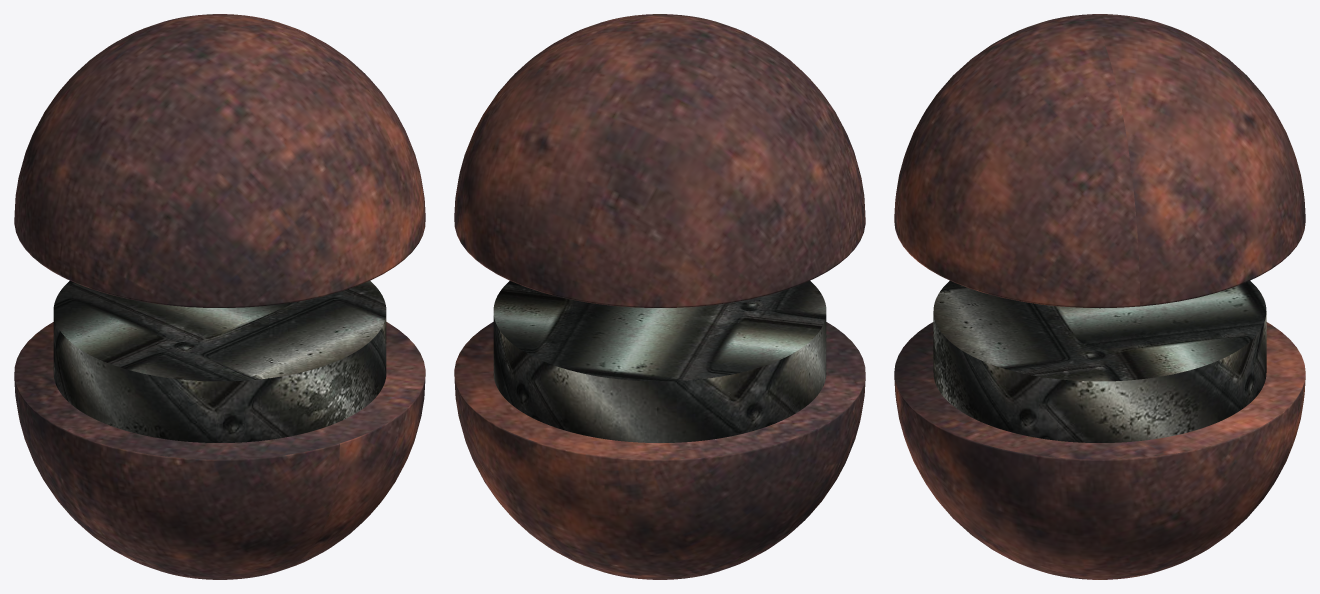
The model's file is droid_anim_000037.obj.
The picture shows the model from 3 angles, left to right: view 1: azimuth 30°, elevation 25°; view 2: azimuth 150°, elevation 25°; view 3: azimuth 270°, elevation 25°; orthographic projection.
Visible parts, largest first — view 1: Sphere.004, Sphere.005, Cylinder.002; view 2: Sphere.004, Sphere.005, Cylinder.002; view 3: Sphere.004, Sphere.005, Cylinder.002.
Part boxes in pixels (bbox=[...]): Sphere.004: bbox=[14, 14, 425, 307]; Sphere.005: bbox=[14, 322, 425, 579]; Cylinder.002: bbox=[53, 280, 386, 442]; Sphere.004: bbox=[454, 14, 865, 307]; Sphere.005: bbox=[454, 322, 865, 579]; Cylinder.002: bbox=[493, 280, 826, 442]; Sphere.004: bbox=[894, 14, 1305, 308]; Sphere.005: bbox=[894, 322, 1305, 579]; Cylinder.002: bbox=[933, 281, 1266, 442].
Bounding box in the file's own units: 2 × 2.83 × 2.
3 materials, 3 textured.
